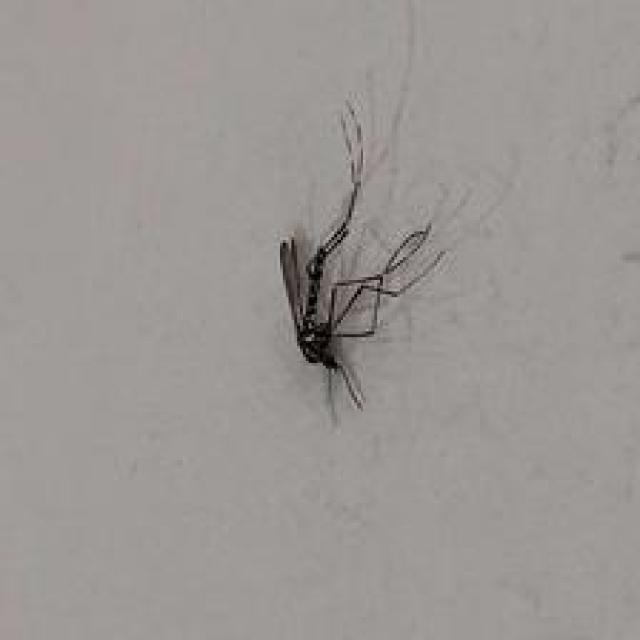Aedes albopictus: (276, 94, 447, 423)
